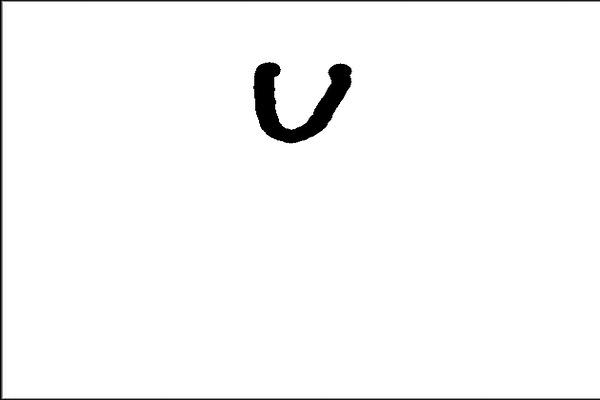U: (243, 43, 356, 147)
